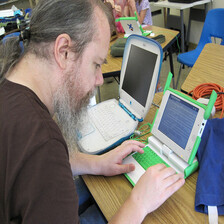laptop: (55, 30, 172, 164), (121, 80, 216, 190)
